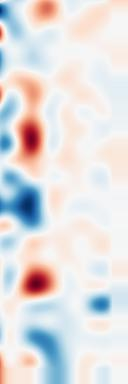filament: (16, 246, 61, 307), (15, 114, 50, 170)
